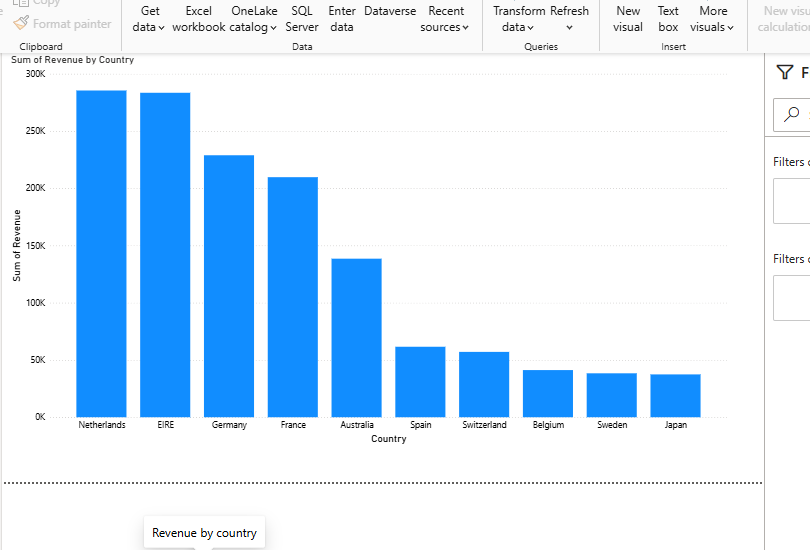

What the dashboard file says about the page in this screenshot:
{"tool":"powerbi","page":{"name":"Revenue by country","canvas":[1280,720],"ordinal":0},"visuals":[{"type":"clusteredColumnChart","fields":{"Y":["Sum(Online Retail.Revenue)"],"Category":["Online Retail.Country"]},"box":[10.1,0,1212.8,661.8],"z":0}]}

Visuals, with their boxes on the page's 1280x720 design canvas (x1, y1, x2, y2). These are canvas units, not pixel positions in the 810x550 screenshot, which may show the page scaled, cropped or inside an application window:
clusteredColumnChart - Sum(Online Retail.Revenue) x Online Retail.Country: rect(10, 0, 1223, 662)
